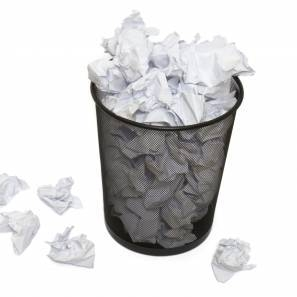paper: (158, 30, 263, 95), (98, 6, 172, 84), (108, 68, 177, 126), (44, 225, 106, 275), (207, 234, 258, 286), (34, 171, 88, 219), (83, 58, 142, 99), (1, 206, 46, 257), (161, 87, 211, 130), (117, 127, 169, 162), (1, 169, 33, 212)
